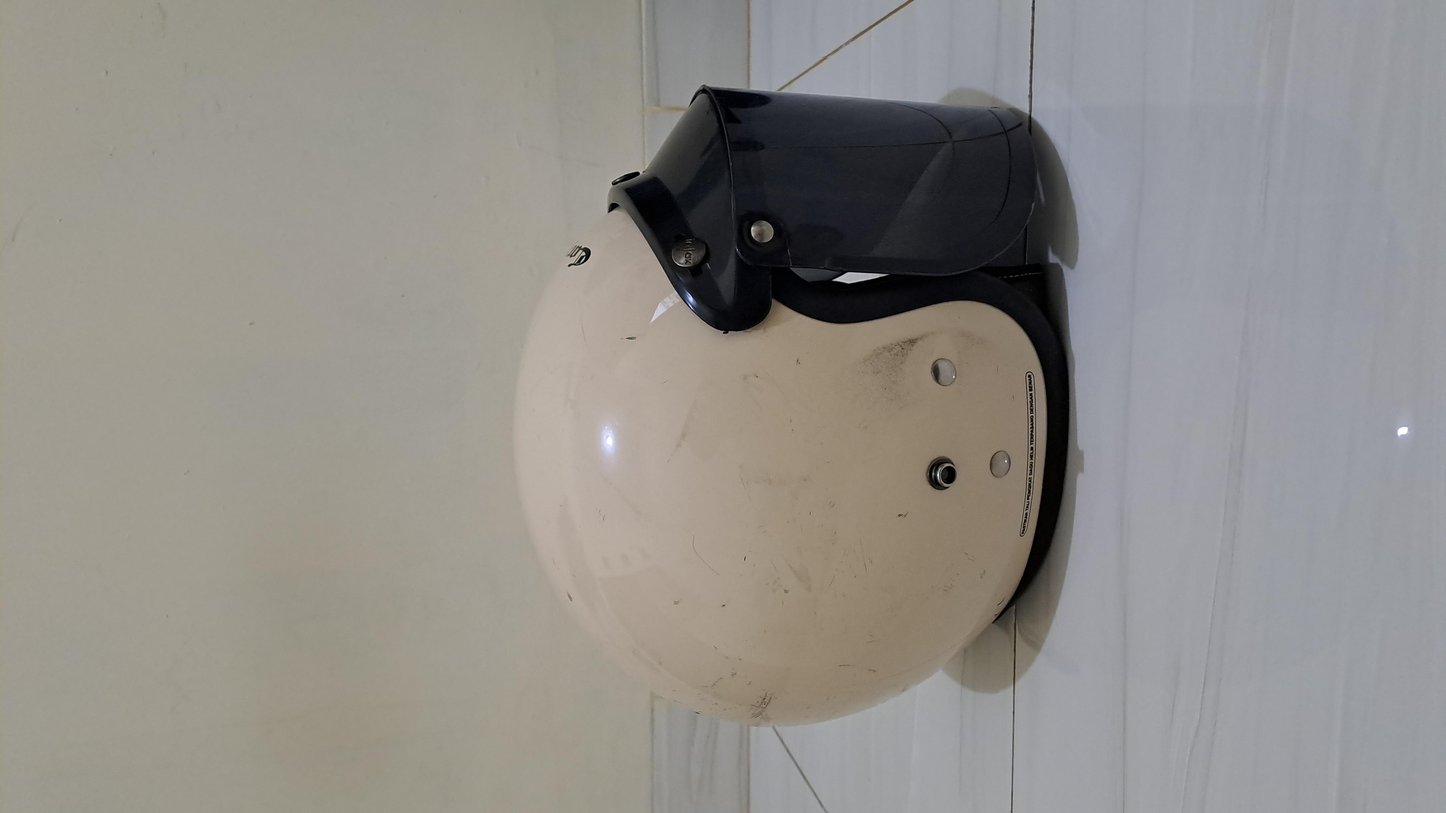helmet: (123, 281, 1367, 619)
